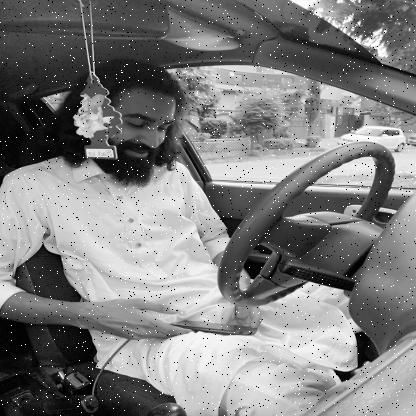no_seatbelt: (80, 66, 204, 283)
